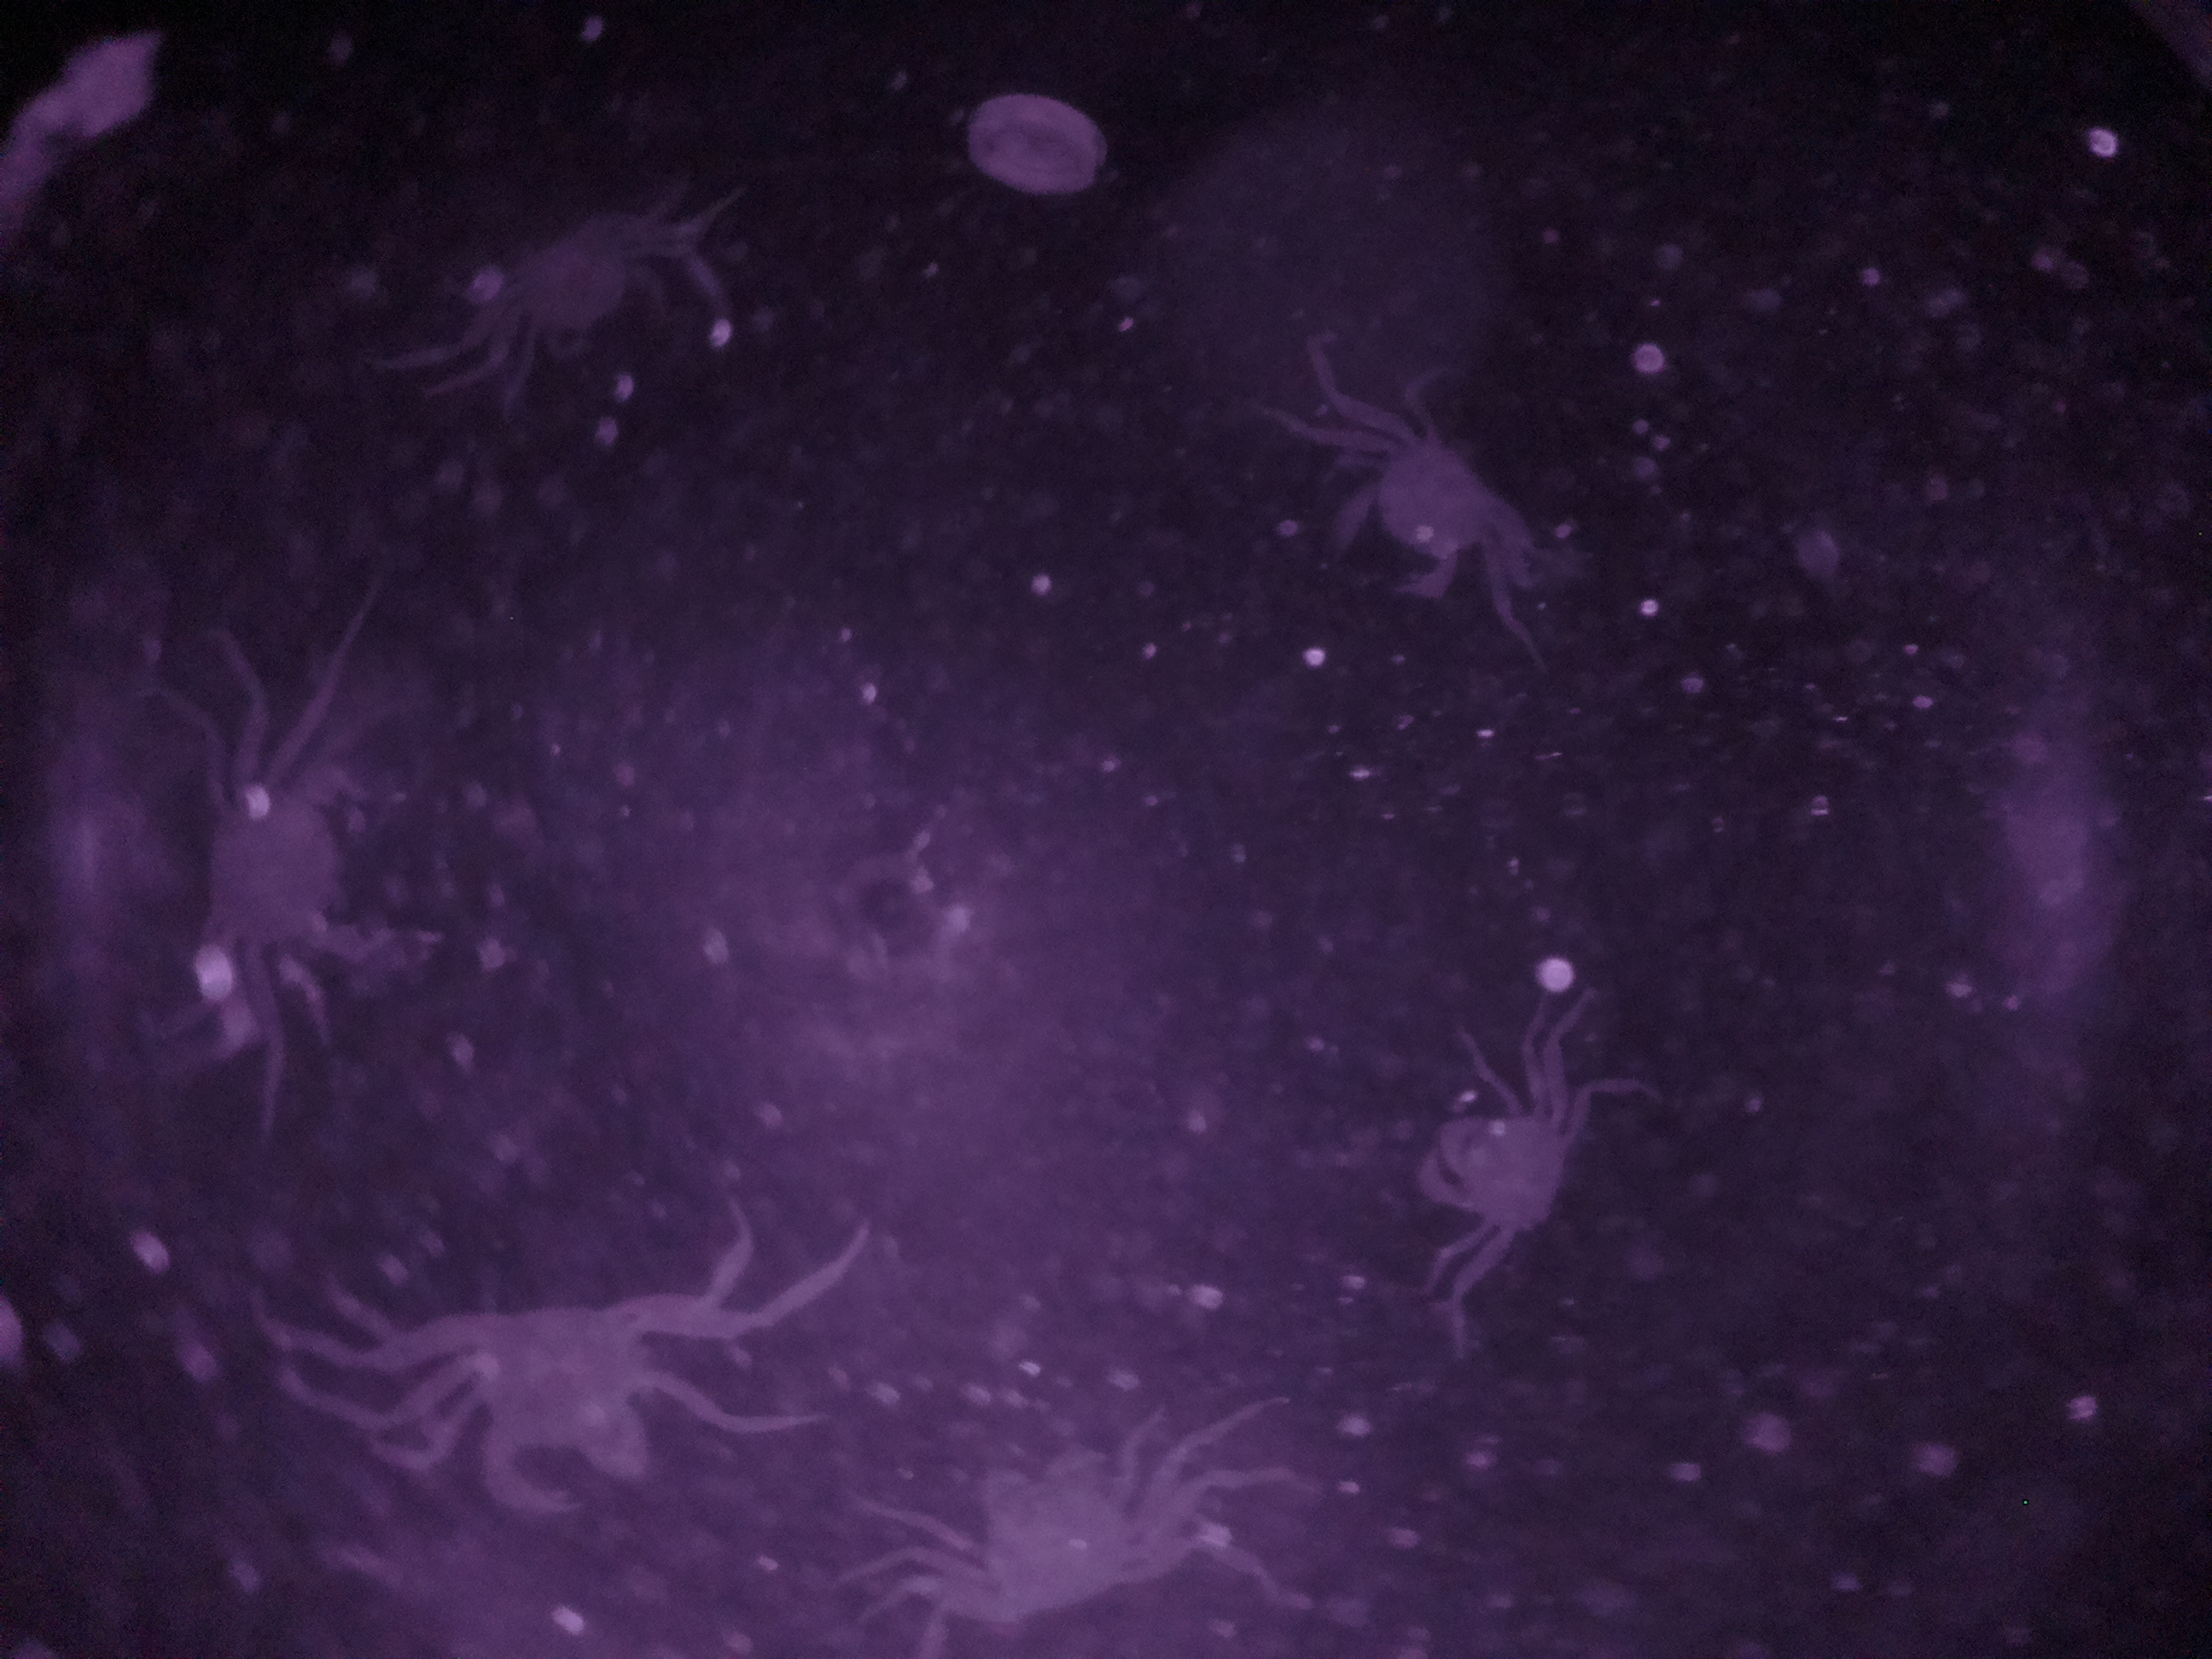Crab: (916, 1422, 1190, 1635), (1315, 415, 1536, 647), (1397, 1054, 1588, 1260)
